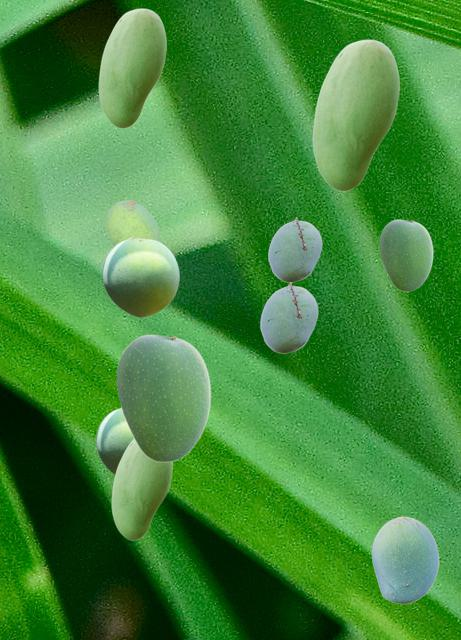green_mango: (312, 39, 398, 190), (116, 334, 210, 461), (98, 8, 165, 127), (102, 237, 178, 316), (111, 439, 171, 539), (371, 516, 438, 603), (260, 282, 317, 352), (379, 219, 432, 290), (268, 217, 321, 281), (96, 407, 132, 474), (106, 200, 159, 245)
